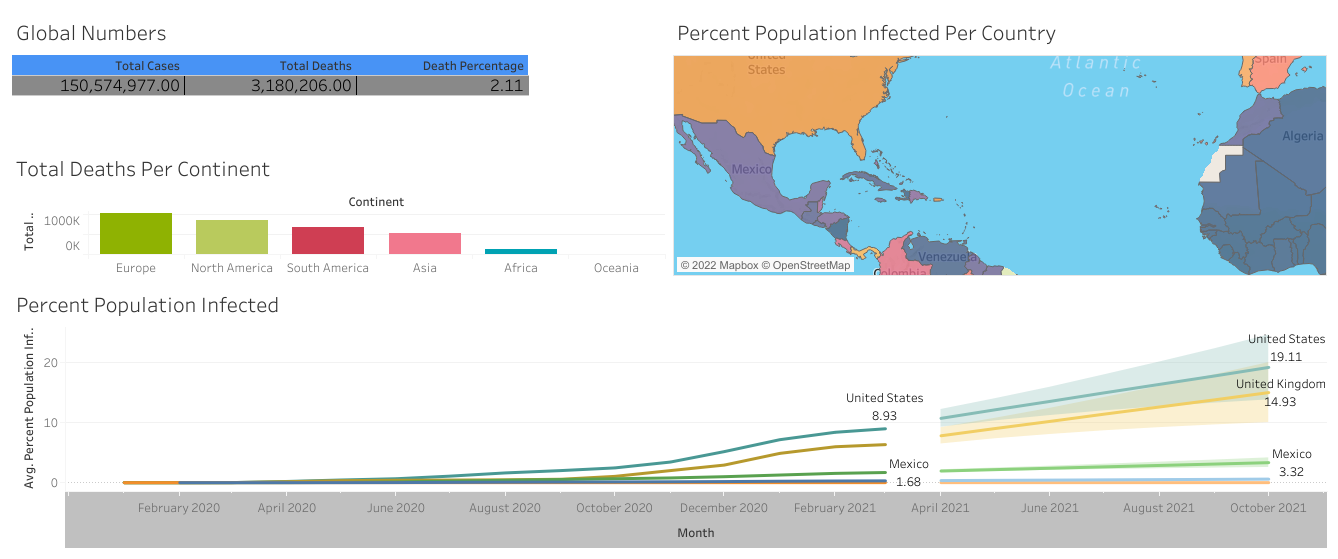

The dashboard page shown, as its layout file describes it:
{"tool":"tableau","page":{"name":"Dashboard 1","canvas":[1000,1000],"units":"permille","ordinal":0},"visuals":[{"type":"worksheet","title":"Sheet 1","mark":"Automatic","box":[6.1,13.5,493.9,243.2]},{"type":"worksheet","title":"Sheet 3","mark":"Automatic","box":[500,13.5,493.9,486.5]},{"type":"worksheet","title":"Sheet 2","mark":"Automatic","rows":["TotalDeathCount"],"cols":["location"],"box":[6.1,256.8,493.9,243.2]},{"type":"worksheet","title":"Sheet 4","mark":"Automatic","rows":["PercentPopulationInfected"],"cols":["date"],"box":[6.1,500,987.8,486.5]}]}

Visuals, with their boxes on the dashboard's canvas, which has no fixed pixel size, in thousandths of its width and height (x1, y1, x2, y2). These are canvas units, not pixel positions in the 1338x559 screenshot, which may show the page scaled, cropped or inside an application window:
"Sheet 1" worksheet: 6,14,500,257
"Sheet 3" worksheet: 500,14,994,500
"Sheet 2" worksheet: 6,257,500,500
"Sheet 4" worksheet: 6,500,994,986
